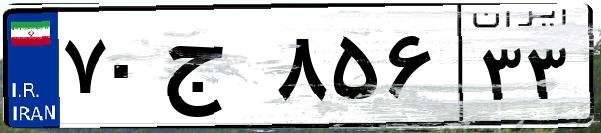0: (110, 28, 158, 98)
3: (475, 38, 525, 113), (525, 38, 570, 115)
5: (330, 28, 385, 110)
6: (385, 28, 445, 110)
7: (57, 26, 110, 100)
8: (270, 28, 330, 110)
ج: (158, 20, 270, 120)
